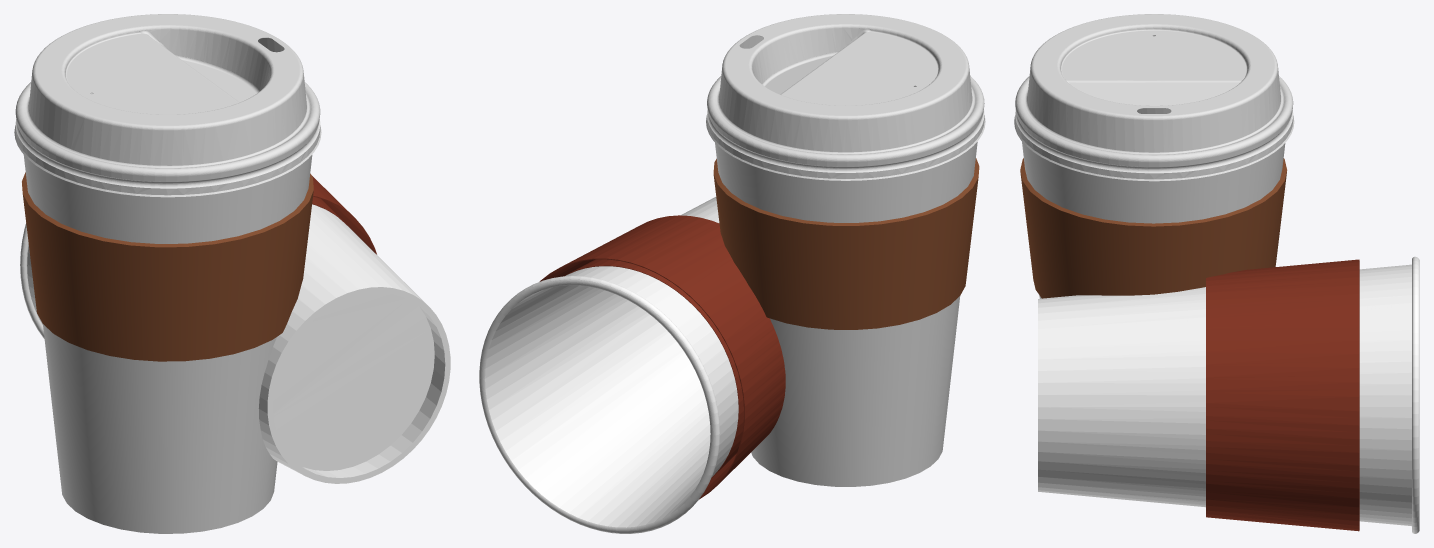
File: CoffeeCup.fbx
3 views of the same model, side by side, from view 1: azimuth 30°, elevation 25°; view 2: azimuth 150°, elevation 25°; view 3: azimuth 270°, elevation 25° (orthographic). The views are drawn at different scales.
Parts seen in each view (by area): view 1: Cylinder, uploads_files_91912_Coffee_Cup_-_Coffee_Cup-1-1, uploads_files_91912_Coffee_Cup_-_Coffee_Cup-3-1; view 2: uploads_files_91912_Coffee_Cup_-_Coffee_Cup-3-1, Cylinder, uploads_files_91912_Coffee_Cup_-_Coffee_Cup-1-1; view 3: uploads_files_91912_Coffee_Cup_-_Coffee_Cup-3-1, uploads_files_91912_Coffee_Cup_-_Coffee_Cup-1-1, Cylinder.
Boxes of the visible parts, left/top/right/bottom form: Cylinder: left=22, top=93, right=313, bottom=533; uploads_files_91912_Coffee_Cup_-_Coffee_Cup-1-1: left=14, top=14, right=321, bottom=197; uploads_files_91912_Coffee_Cup_-_Coffee_Cup-3-1: left=20, top=176, right=450, bottom=483; uploads_files_91912_Coffee_Cup_-_Coffee_Cup-3-1: left=479, top=197, right=785, bottom=533; Cylinder: left=713, top=86, right=979, bottom=486; uploads_files_91912_Coffee_Cup_-_Coffee_Cup-1-1: left=706, top=14, right=985, bottom=180; uploads_files_91912_Coffee_Cup_-_Coffee_Cup-3-1: left=1038, top=256, right=1419, bottom=533; uploads_files_91912_Coffee_Cup_-_Coffee_Cup-1-1: left=1014, top=14, right=1294, bottom=181; Cylinder: left=1020, top=142, right=1287, bottom=298.
Bounding box in the file's own units: 12601 × 13446 × 12384.
